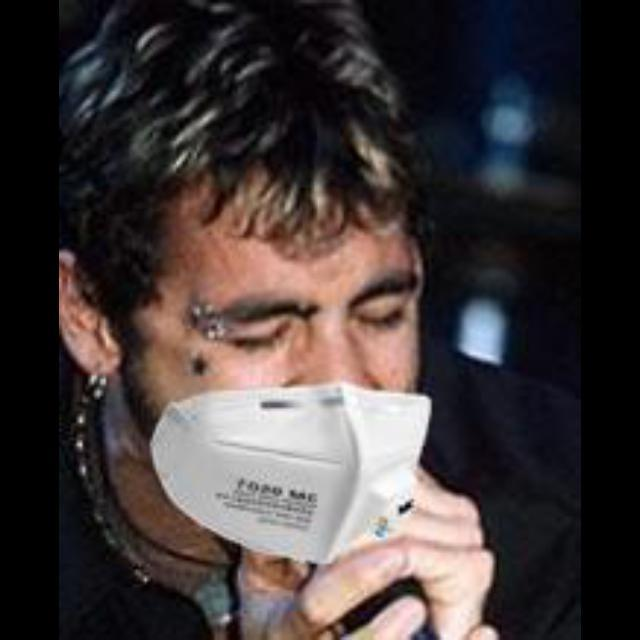suspicion: (96, 23, 494, 589)
